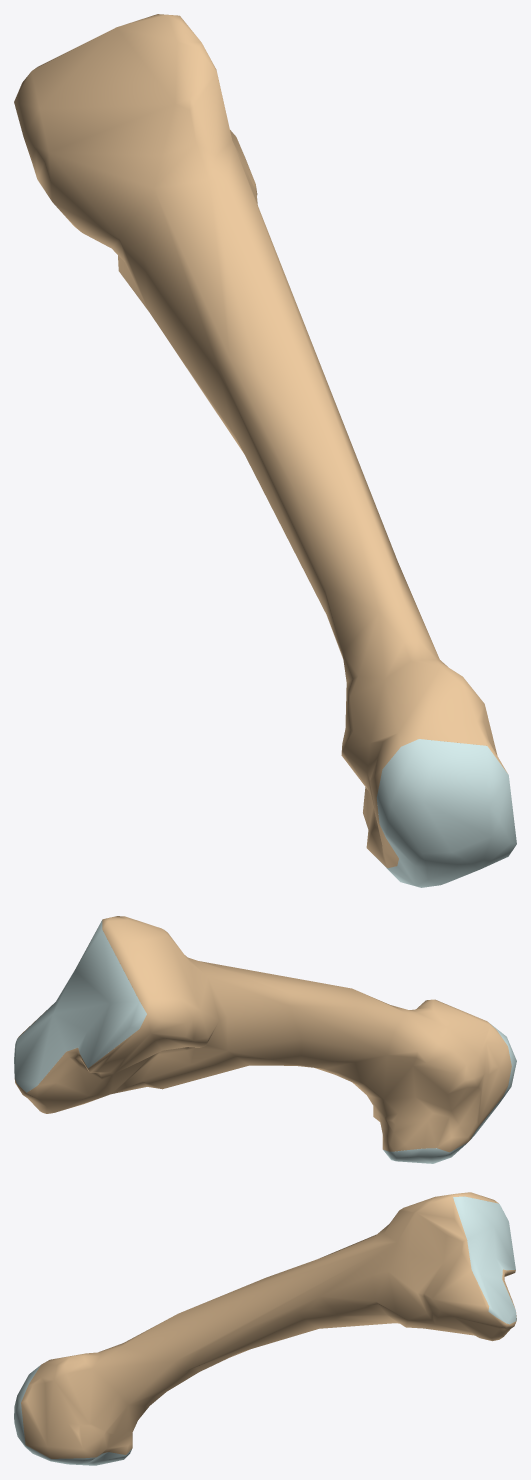
Rendered from 3rd_metatarsal_bone.r_Generated_Mesh_From_X3D.929.glb.
The picture shows the model from 3 angles, top to bottom: view 1: azimuth 30°, elevation 25°; view 2: azimuth 150°, elevation 25°; view 3: azimuth 270°, elevation 25°; orthographic projection. The views are drawn at different scales.
Visible parts, largest first — view 1: 3rd_metatarsal_bone.r_Generated_Mesh_From_X3D.929; view 2: 3rd_metatarsal_bone.r_Generated_Mesh_From_X3D.929; view 3: 3rd_metatarsal_bone.r_Generated_Mesh_From_X3D.929.
Boxes of the visible parts, left/top/right/bottom form: 3rd_metatarsal_bone.r_Generated_Mesh_From_X3D.929: left=14, top=14, right=516, bottom=887; 3rd_metatarsal_bone.r_Generated_Mesh_From_X3D.929: left=14, top=916, right=516, bottom=1163; 3rd_metatarsal_bone.r_Generated_Mesh_From_X3D.929: left=14, top=1192, right=516, bottom=1465.
Bounding box in the file's own units: 0.0231 × 0.0444 × 0.0678.
